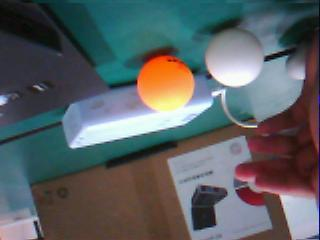oball: (137, 54, 195, 113)
